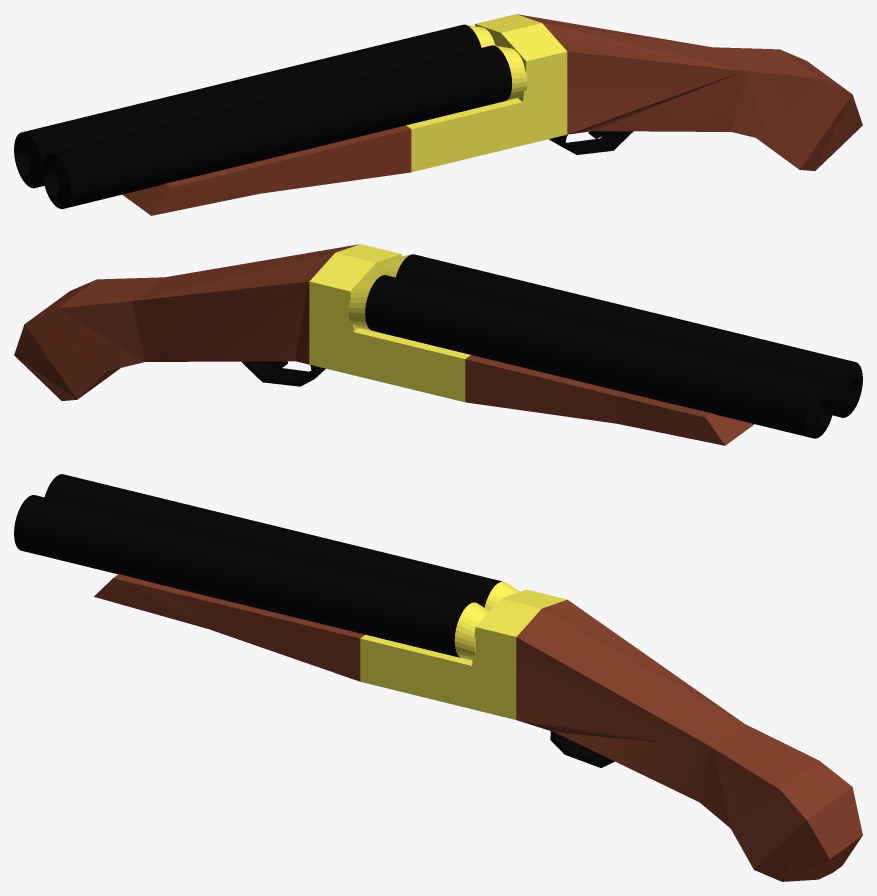
The model's file is ShotgunTextured.glb.
3 views of the same model, one above another, from view 1: azimuth 30°, elevation 25°; view 2: azimuth 150°, elevation 25°; view 3: azimuth 330°, elevation 25° (orthographic).
Visible parts, largest first — view 1: shotgun; view 2: shotgun; view 3: shotgun.
Boxes of the visible parts, x1=… form: shotgun: x1=14, y1=14, x2=862, y2=215; shotgun: x1=14, y1=244, x2=862, y2=445; shotgun: x1=14, y1=474, x2=862, y2=881.
Bounding box in the file's own units: 5.32 × 1.25 × 0.6625.
